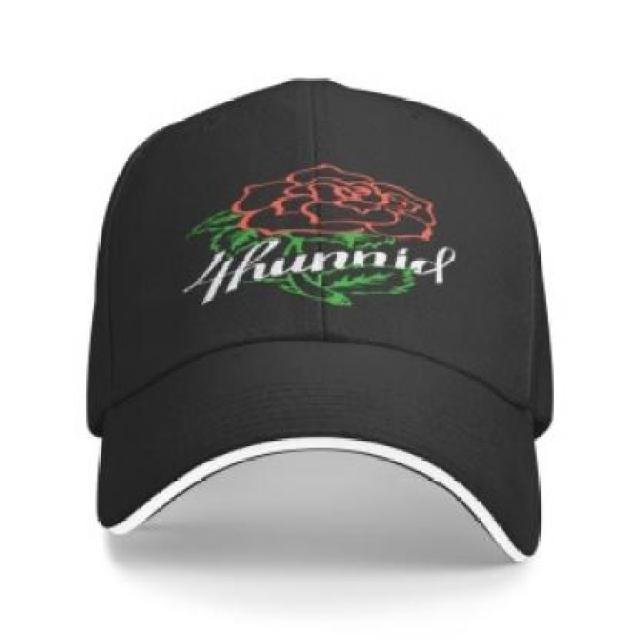hat: (86, 76, 556, 562)
